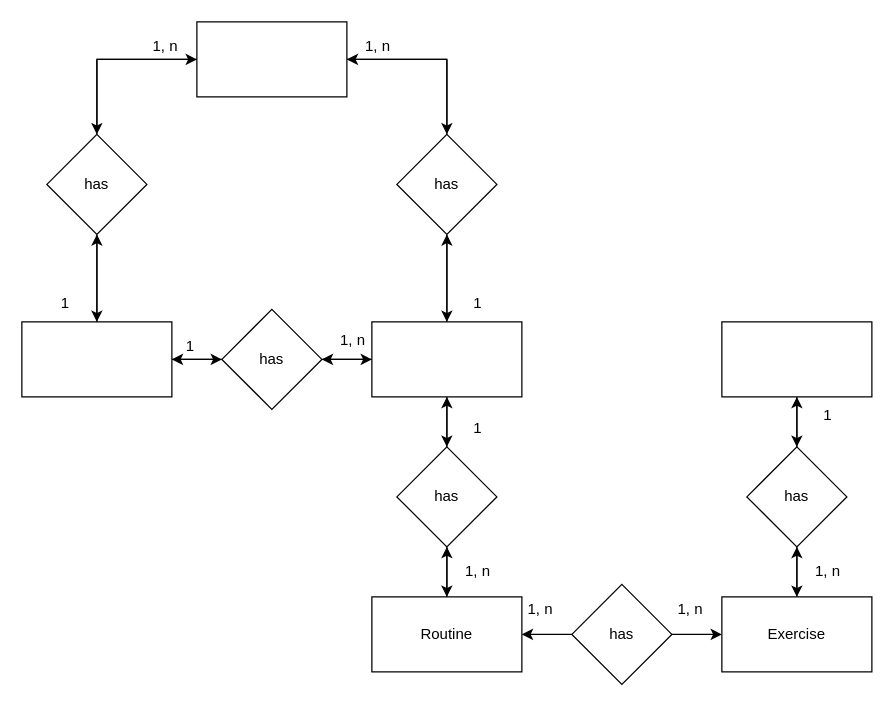
Image size: 894x706. Some labels were removed from this diagram. Here are the shapes that lost their labels. From the top down, the centre of each, then its label:
the point at 271,59: Comment
the point at 96,359: Trainer
the point at 446,359: User
the point at 796,359: Material
